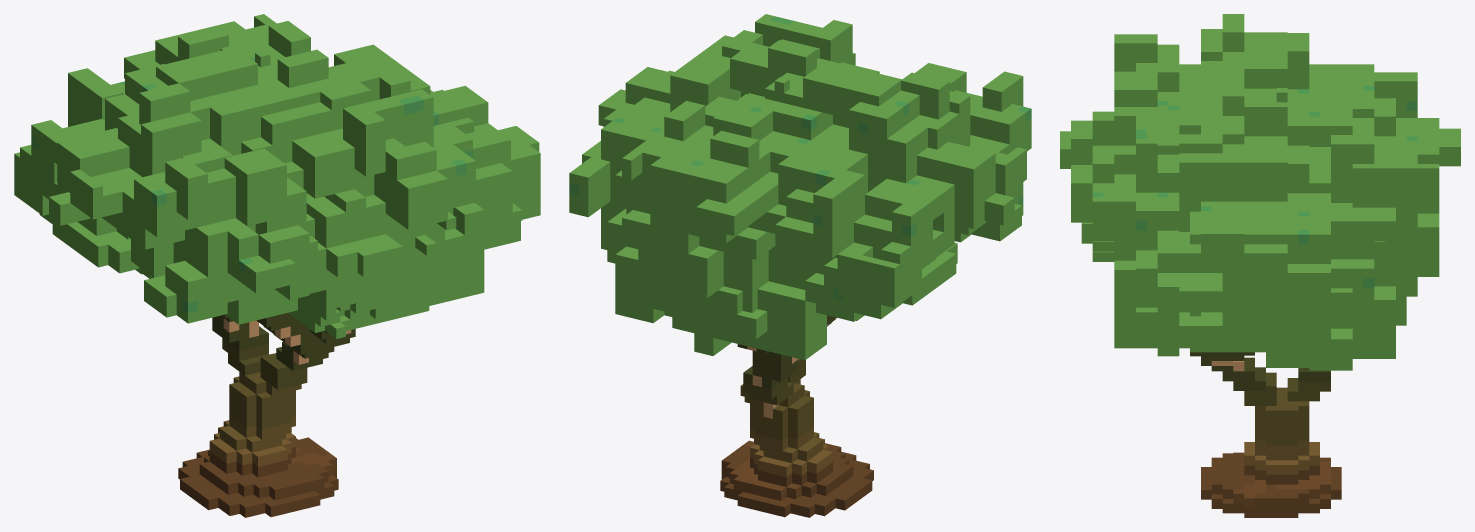
The model's file is 2_3 acer.obj.
3 renders of one model, left to right at view 1: azimuth 30°, elevation 25°; view 2: azimuth 150°, elevation 25°; view 3: azimuth 270°, elevation 25°, orthographic. The views are drawn at different scales.
Bounding box in the file's own units: 4.5 × 4.2 × 3.7.
1 material, 1 textured.
